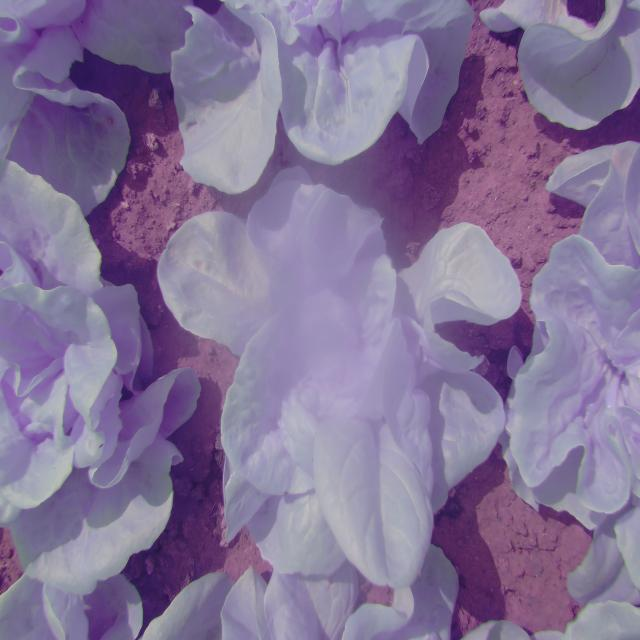vege: (158, 179, 514, 585)
